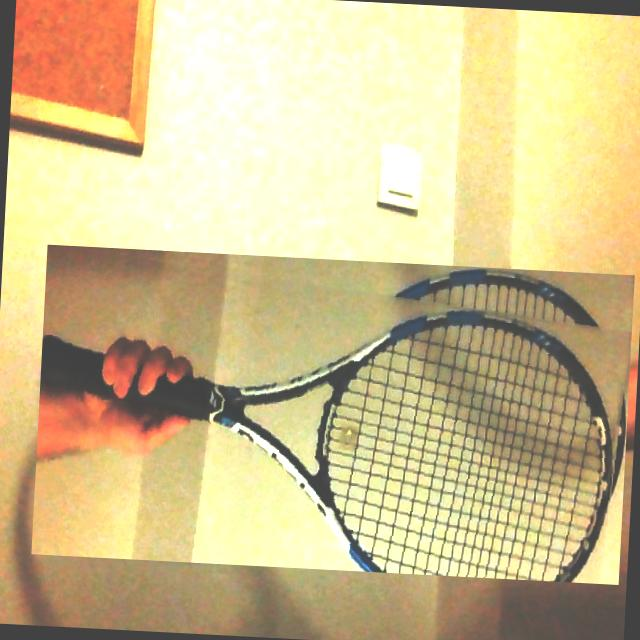TennisRacket: (31, 245, 634, 585)
